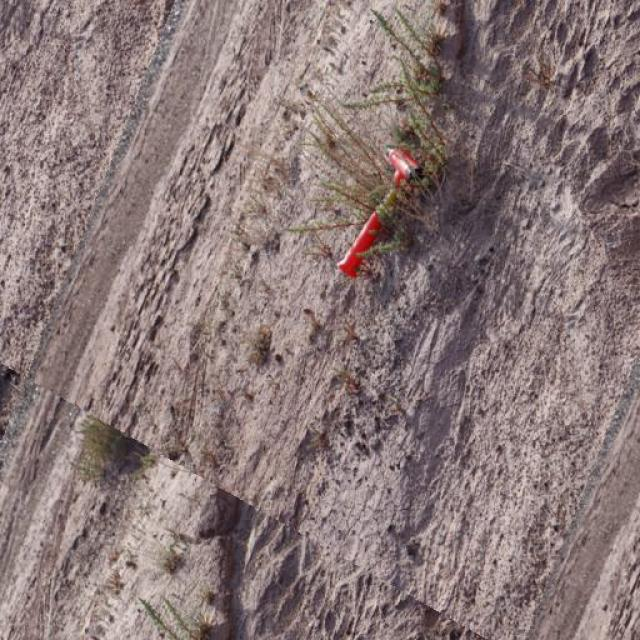mallet: (335, 145, 421, 277)
